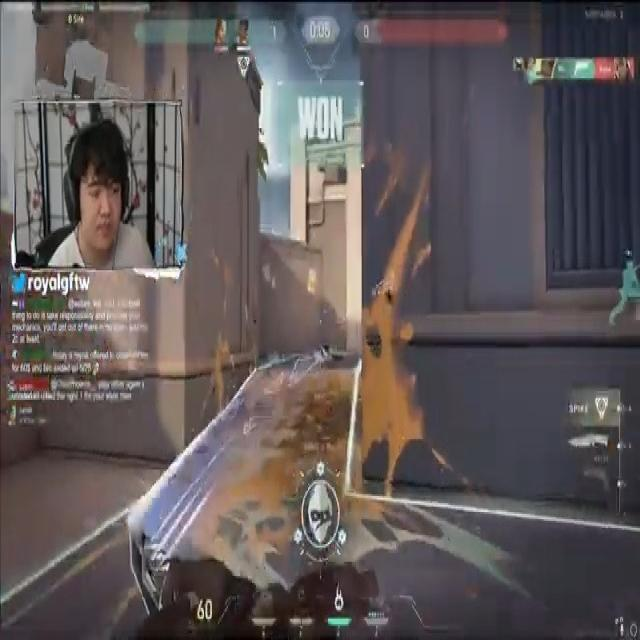ally behind wall: (609, 251, 640, 329)
